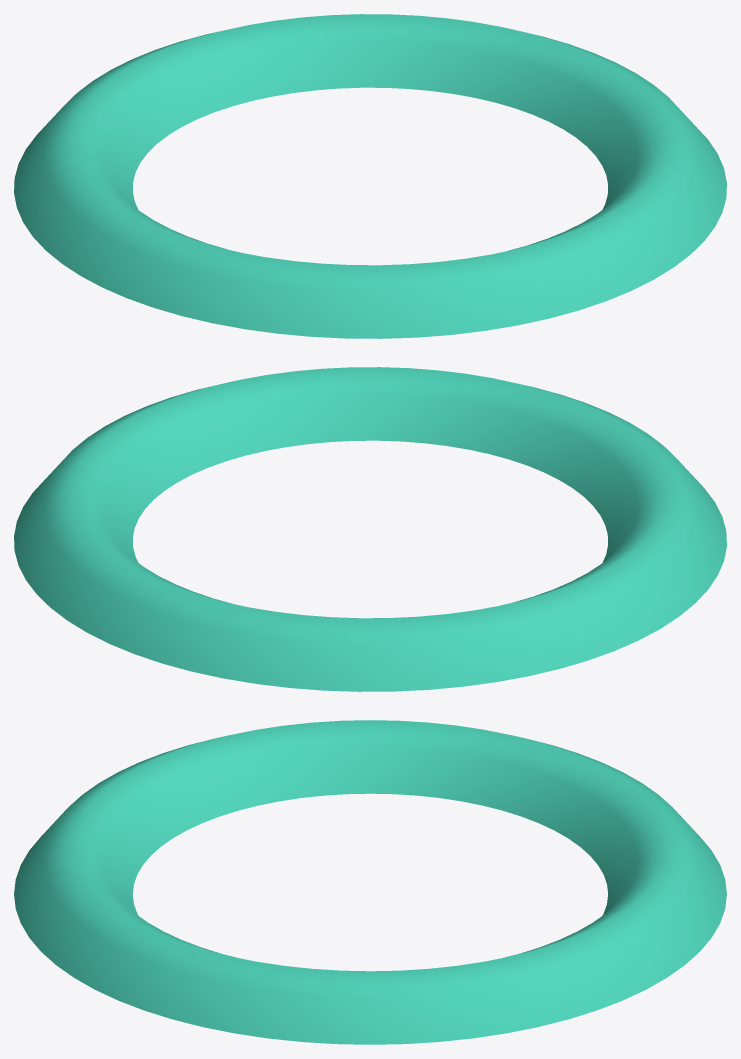
The model's file is fx_ring_wave.glb.
3 views of the same model, one above another, from view 1: azimuth 30°, elevation 25°; view 2: azimuth 150°, elevation 25°; view 3: azimuth 270°, elevation 25° (orthographic).
Visible parts, largest first — view 1: fx_ring_wave; view 2: fx_ring_wave; view 3: fx_ring_wave.
Boxes of the visible parts, left/top/right/bottom form: fx_ring_wave: left=14, top=14, right=726, bottom=338; fx_ring_wave: left=14, top=367, right=726, bottom=691; fx_ring_wave: left=14, top=720, right=726, bottom=1044.
Bounding box in the file's own units: 2.4 × 0.18 × 2.4.
